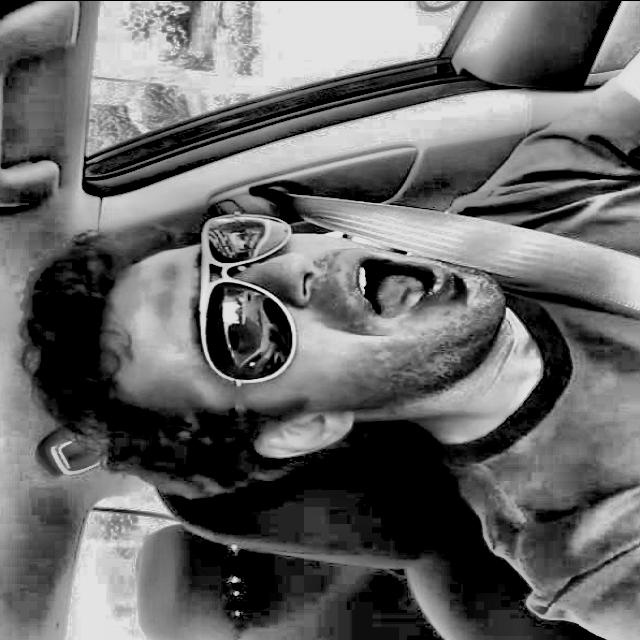open_mouth: (324, 234, 463, 341)
